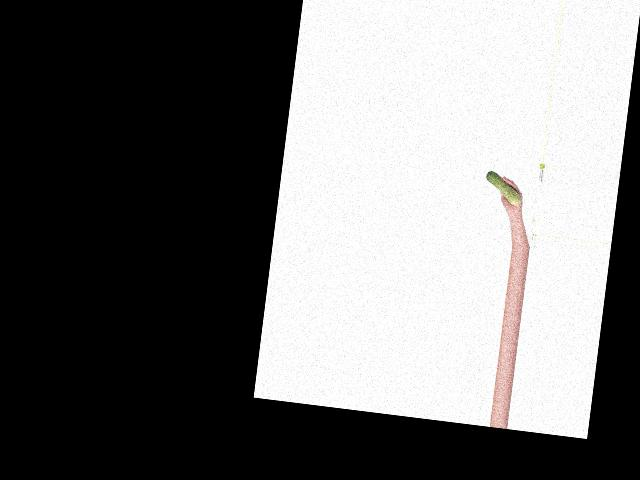cucumber: (483, 171, 523, 206)
